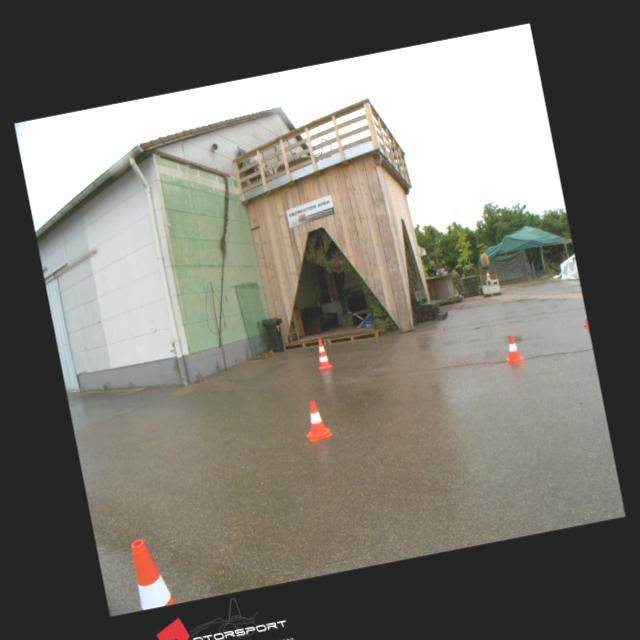large_orange_cone: (312, 336, 333, 369)
orange_cone: (300, 398, 332, 442), (502, 334, 524, 364)
